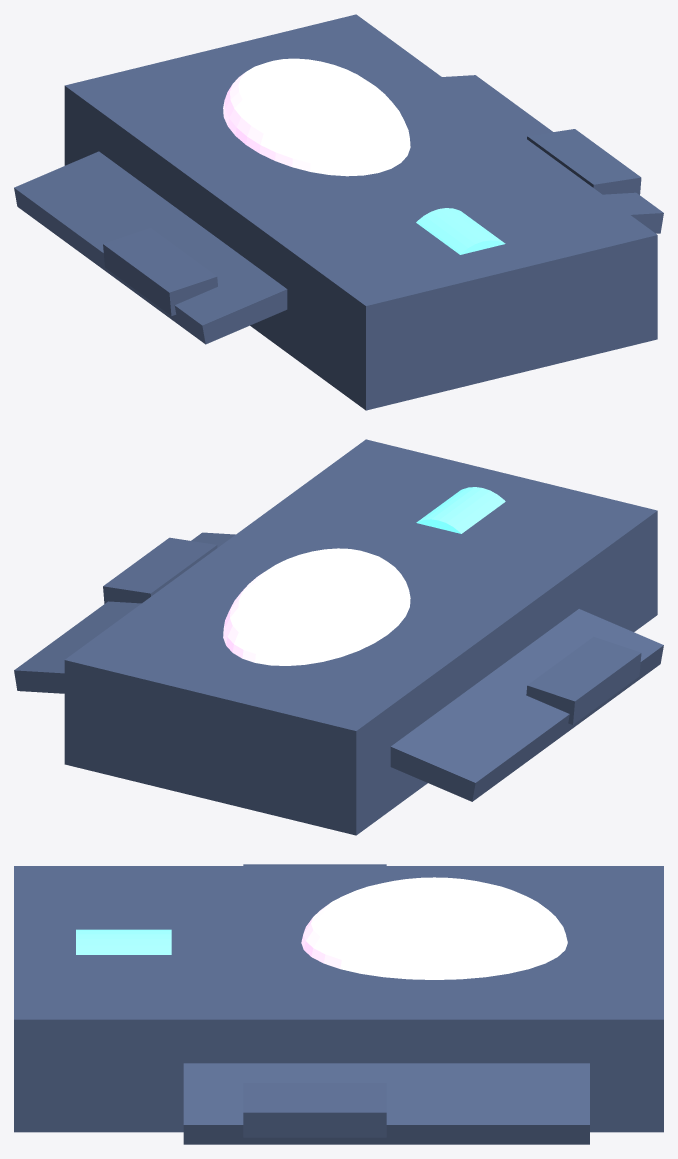
The model's file is warden_t3.glb.
3 views of the same model, one above another, from view 1: azimuth 30°, elevation 25°; view 2: azimuth 150°, elevation 25°; view 3: azimuth 270°, elevation 25° (orthographic). The views are drawn at different scales.
Parts seen in each view (by area): view 1: Cube, Cube.002, Sphere, Cube.006, Cube.005, Cube.001, Cylinder.002; view 2: Cube, Cube.002, Sphere, Cube.006, Cube.001, Cube.005, Cylinder.002; view 3: Cube, Cube.001, Sphere, Cube.005, Cylinder.002.
Boxes of the visible parts, x1,y1,x2,y2 form: Cube: (64,14,657,410); Cube.002: (14,151,287,344); Sphere: (223,58,410,176); Cube.006: (103,228,217,315); Cube.005: (527,129,641,194); Cube.001: (442,75,663,233); Cylinder.002: (416,208,505,254); Cube: (64,439,657,835); Cube.002: (390,609,663,801); Sphere: (223,548,410,665); Cube.006: (526,637,641,724); Cube.001: (14,532,235,693); Cube.005: (103,537,217,603); Cylinder.002: (416,487,505,533); Cube: (14,866,663,1132); Cube.001: (183,1063,589,1144); Sphere: (301,877,567,979); Cube.005: (243,1083,386,1137); Cylinder.002: (76,929,171,954).
Bounding box in the file's own units: 2.46 × 0.77 × 2.72.
